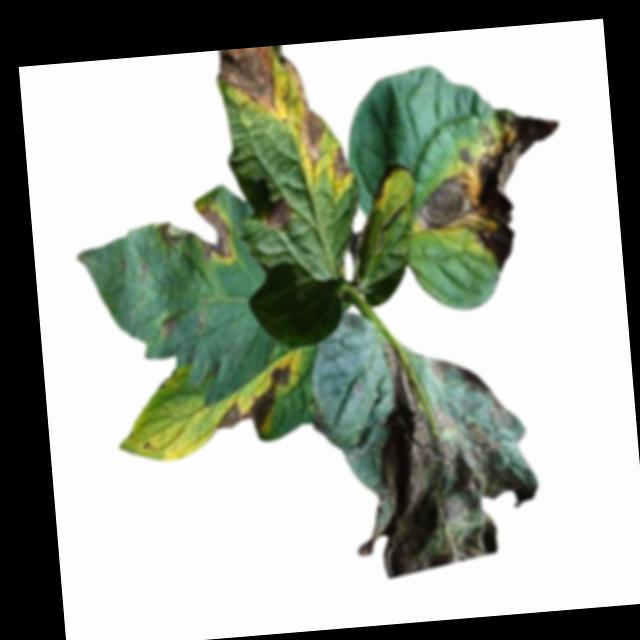Early_blight: (340, 328, 550, 582), (410, 106, 574, 279), (214, 42, 333, 170), (211, 358, 297, 437), (156, 196, 237, 268), (263, 194, 297, 233), (331, 144, 353, 182), (158, 314, 180, 336), (308, 411, 327, 435)
